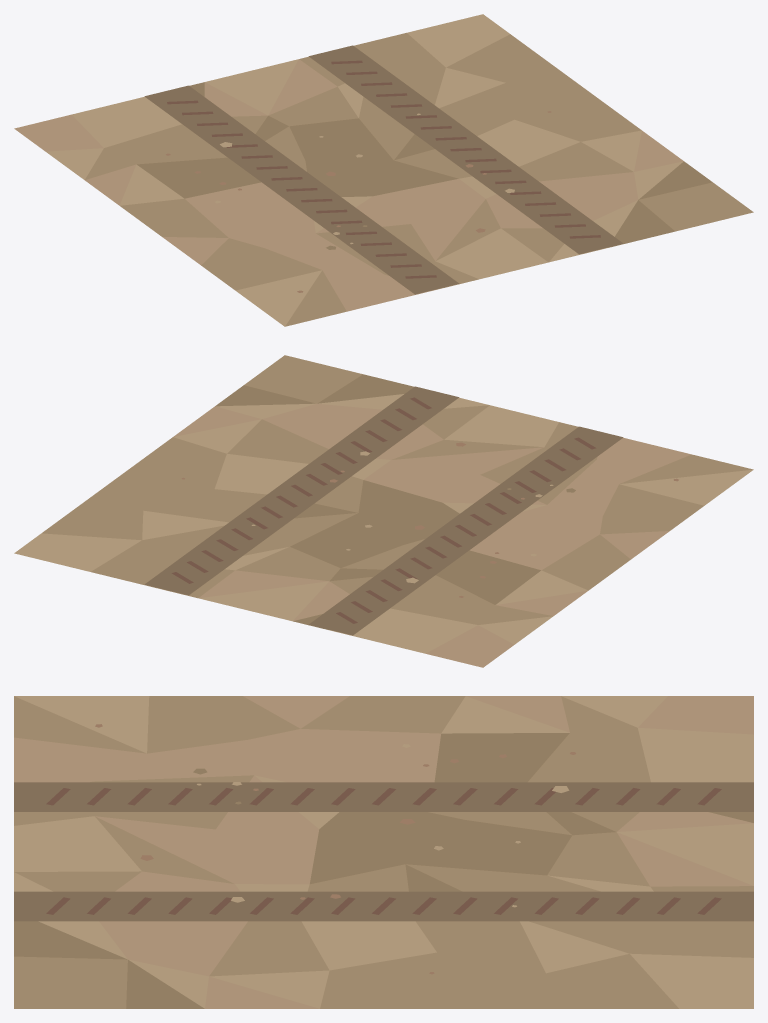
File: 12_Sand_Tracks.fbx
3 views of the same model, one above another, from view 1: azimuth 30°, elevation 25°; view 2: azimuth 150°, elevation 25°; view 3: azimuth 270°, elevation 25° (orthographic). The views are drawn at different scales.
Parts seen in each view (by area): view 1: 12_Sand_Tracks; view 2: 12_Sand_Tracks; view 3: 12_Sand_Tracks.
Boxes of the visible parts, bbox=[...] form: 12_Sand_Tracks: bbox=[14, 14, 753, 326]; 12_Sand_Tracks: bbox=[14, 355, 753, 667]; 12_Sand_Tracks: bbox=[14, 696, 753, 1008].
Bounding box in the file's own units: 800 × 1.6 × 800.
1 material, 1 textured.
